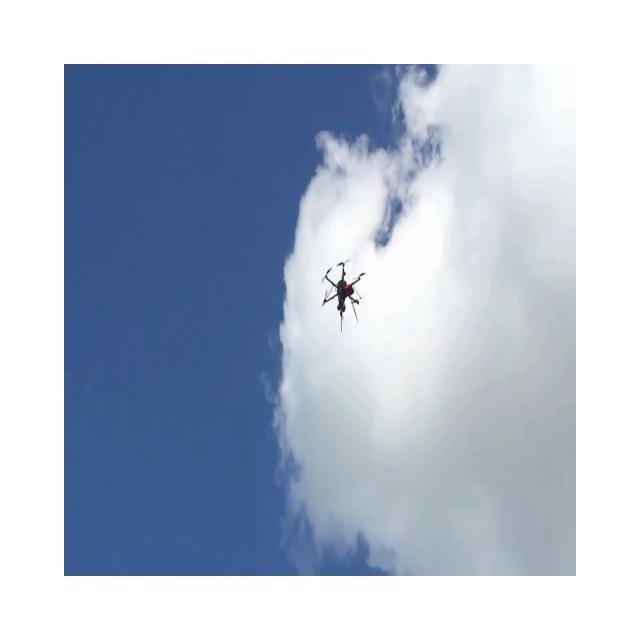drone: (321, 258, 366, 332)
